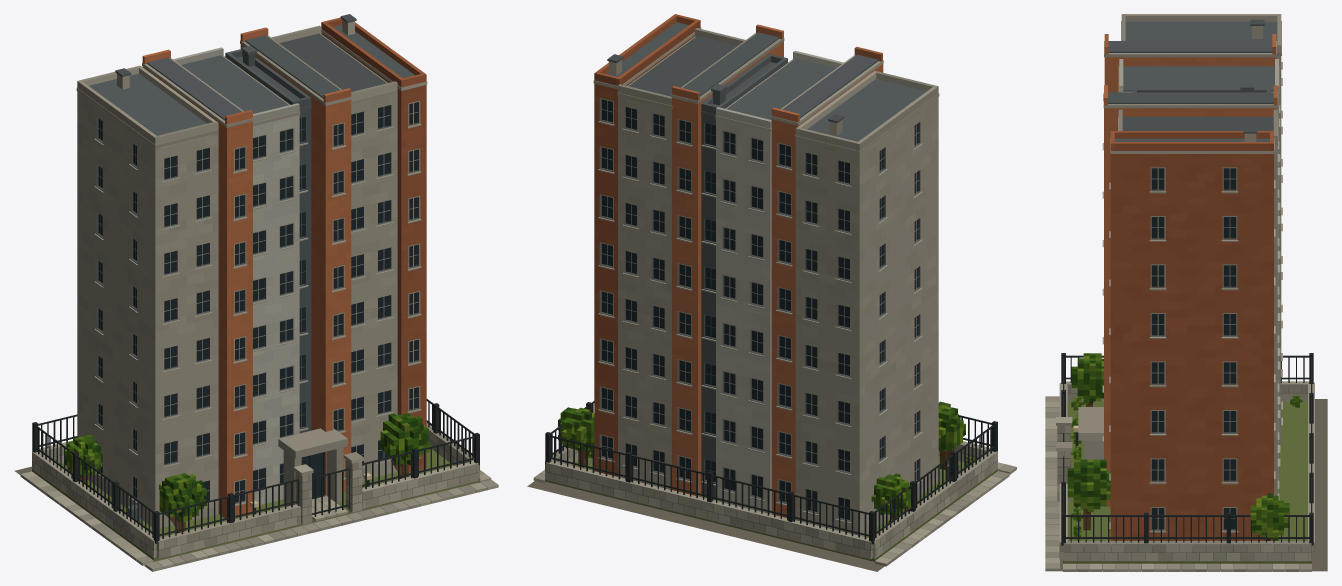
Rendered from SM_Mapa_079.fbx.
3 views of the same model, side by side, from view 1: azimuth 30°, elevation 25°; view 2: azimuth 150°, elevation 25°; view 3: azimuth 270°, elevation 25° (orthographic). The views are drawn at different scales.
Visible parts, largest first — view 1: SM_Mapa_079; view 2: SM_Mapa_079; view 3: SM_Mapa_079.
Part boxes in pixels (<box>): SM_Mapa_079: <box>14,14,498,571</box>; SM_Mapa_079: <box>527,14,1016,571</box>; SM_Mapa_079: <box>1045,14,1327,571</box>.
Bounding box in the file's own units: 32 × 21.95 × 35.8.
